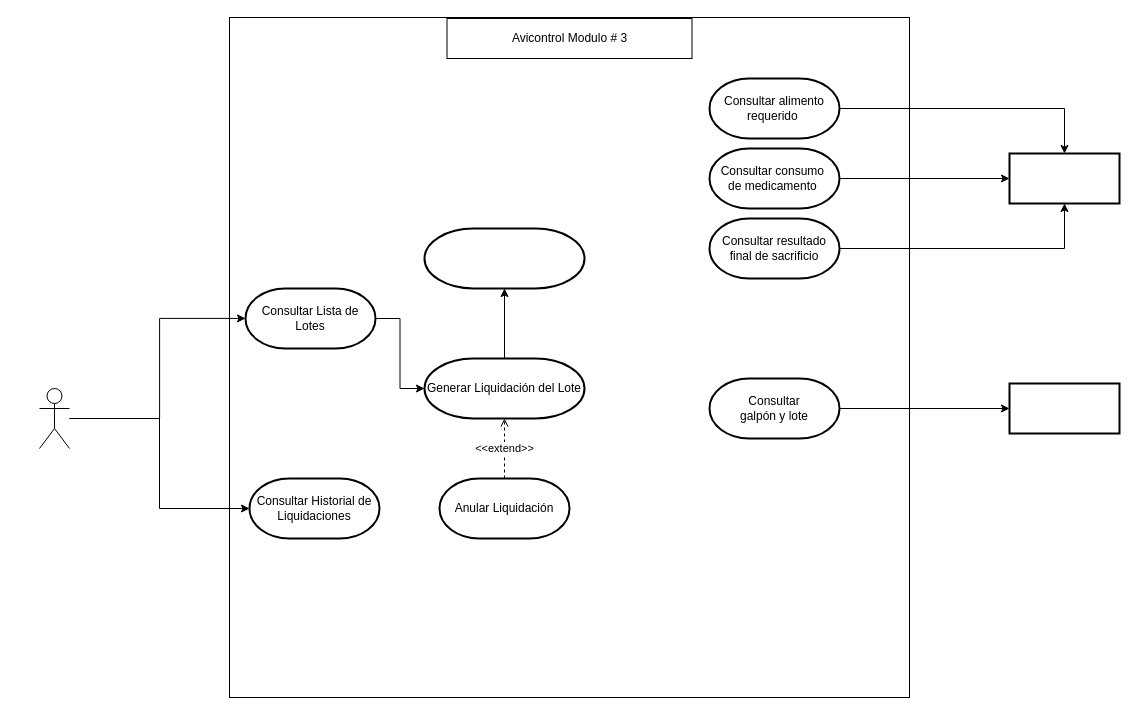
Image size: 1138x715. Some labels were removed from this diagram. The centre of each missing label's shape, as x and y in pixels:
"<<system>> Módulo 1" belongs at (x=1064, y=408).
"<<system>> Módulo 2" belongs at (x=1064, y=178).
"Administrador financiero" belongs at (x=54, y=418).
"Consultar Desglose de Ventas y Gastos" belongs at (x=504, y=258).
